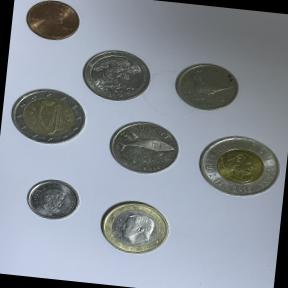1 Euro-B: (92, 194, 180, 262)
2 Euro-B: (4, 83, 92, 152)
Canada-10cent-B: (22, 176, 86, 228)
Canada-2Dollar-B: (190, 127, 286, 205)
Croatia-2Kune-B: (102, 114, 187, 182)
US-1cent-B: (18, 0, 89, 49)
US-25cent-B: (77, 44, 160, 108)
